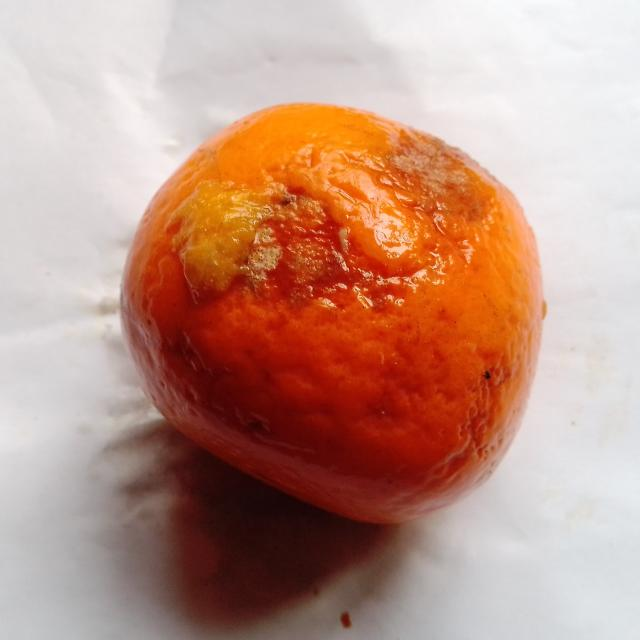orange: (122, 104, 543, 522)
